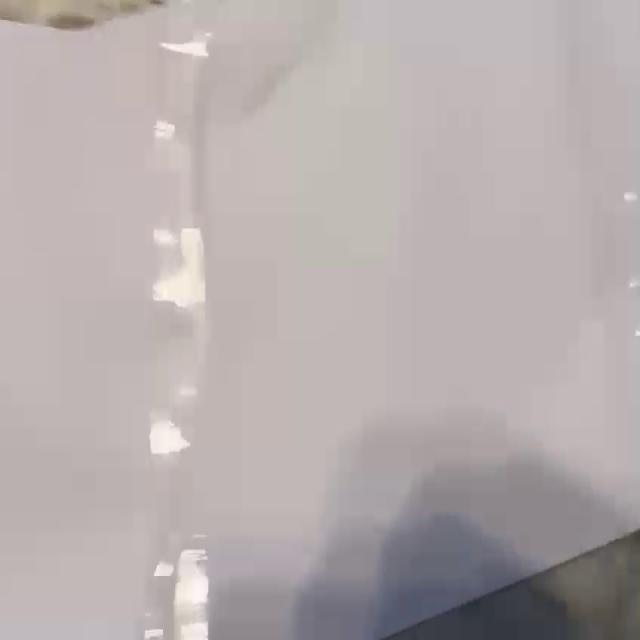road: (0, 1, 640, 640)
